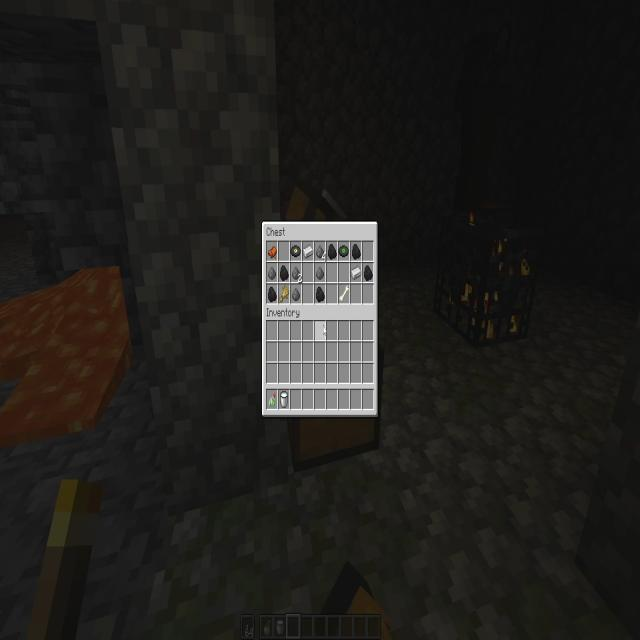Zombie: (456, 12, 514, 209)
